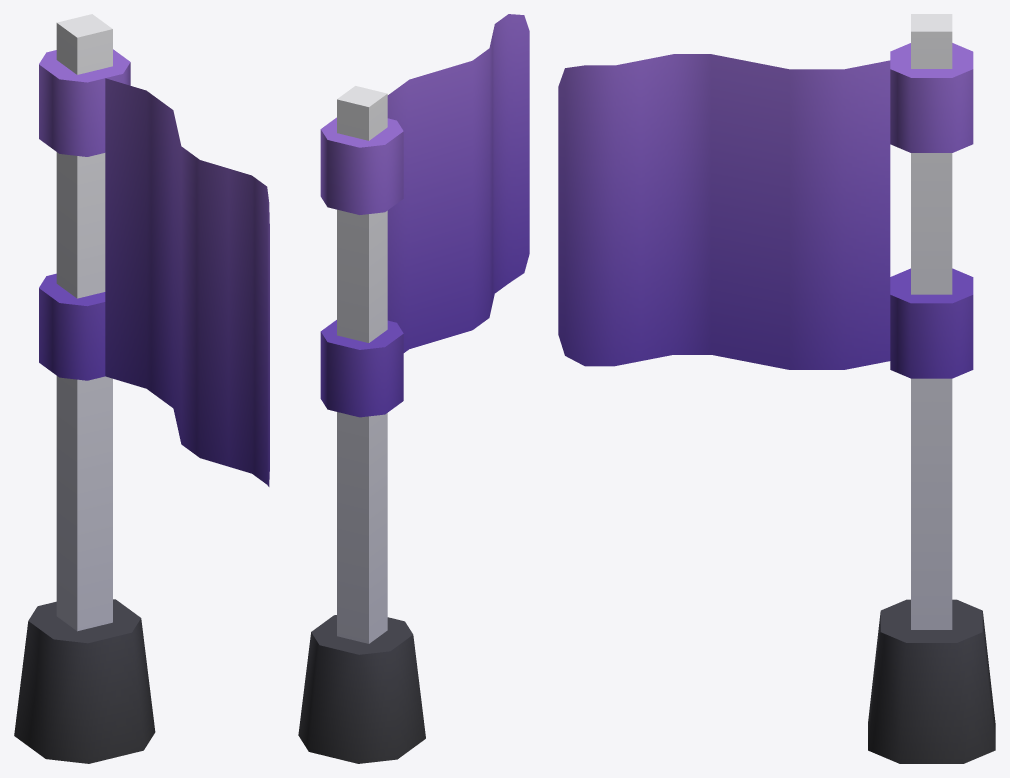
The model's file is Flag.fbx.
The picture shows the model from 3 angles, left to right: view 1: azimuth 30°, elevation 25°; view 2: azimuth 150°, elevation 25°; view 3: azimuth 270°, elevation 25°; orthographic projection. The views are drawn at different scales.
Parts seen in each view (by area): view 1: flag; view 2: flag; view 3: flag.
Boxes of the visible parts, <box> form: flag: <box>14,14,269,763</box>; flag: <box>298,14,529,763</box>; flag: <box>558,14,995,763</box>.
Bounding box in the file's own units: 20 × 124 × 68.5.
